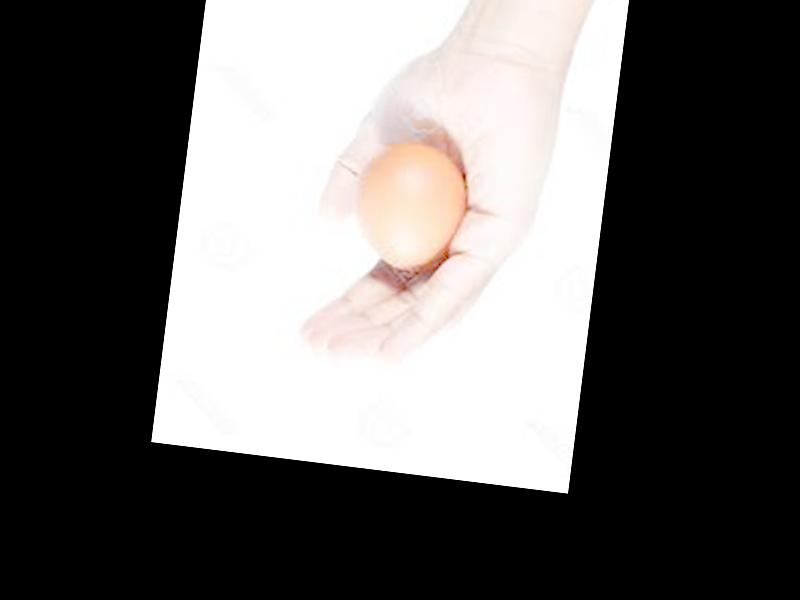Eggs: (349, 137, 469, 274)
